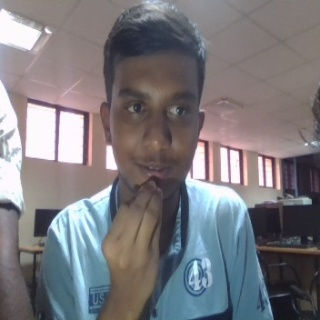Food: (101, 179, 164, 305)
